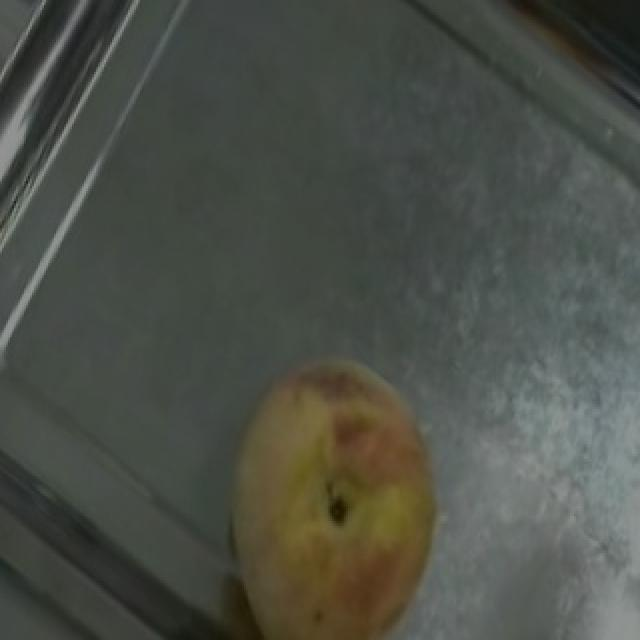Fruit: (176, 320, 480, 640)
